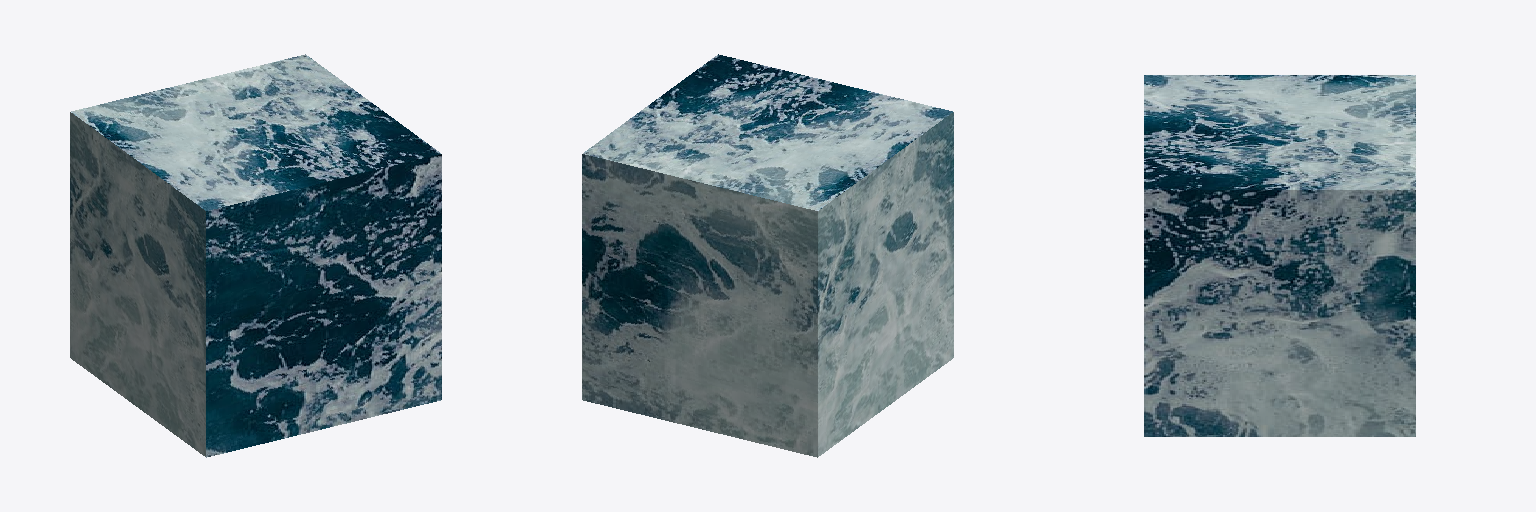
3 views of the same model, side by side, from view 1: azimuth 30°, elevation 25°; view 2: azimuth 150°, elevation 25°; view 3: azimuth 270°, elevation 25° (orthographic).
Parts seen in each view (by area): view 1: Cube27; view 2: Cube27; view 3: Cube27.
Boxes of the visible parts, x1,y1,x2,y2 form: Cube27: [70, 54, 441, 457]; Cube27: [582, 54, 953, 457]; Cube27: [1144, 75, 1415, 436].
Bounding box in the file's own units: 2 × 2 × 2.
Materials: 1 (1 with a texture image).